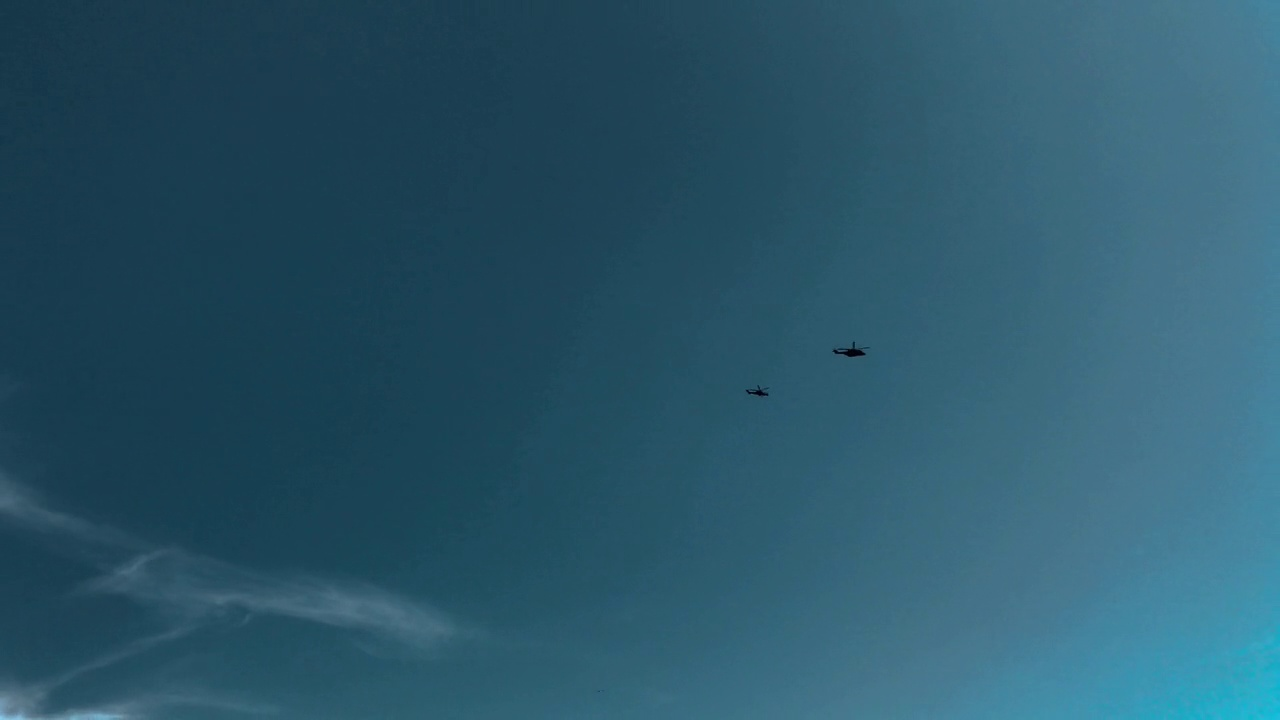heli: (832, 340, 870, 356), (744, 385, 768, 397)
